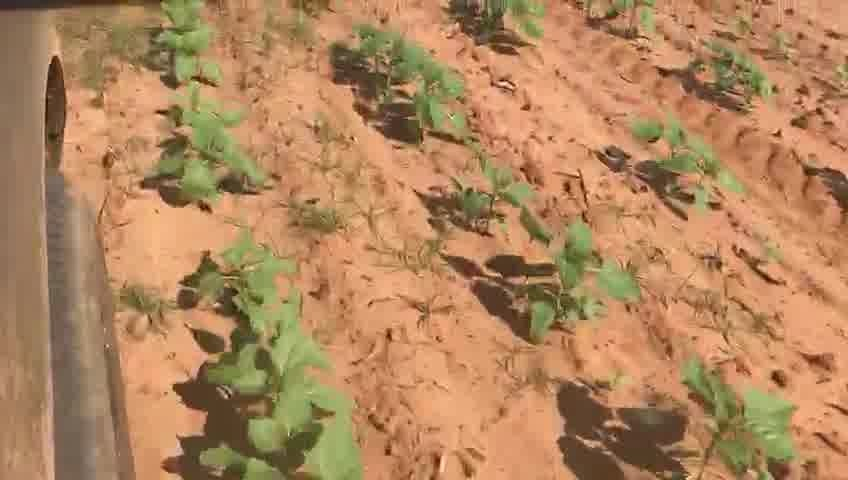sunflower: (667, 357, 796, 478), (194, 385, 357, 478), (525, 223, 638, 342), (144, 102, 263, 210), (194, 300, 323, 389), (204, 236, 293, 314), (408, 63, 472, 156), (463, 151, 527, 242), (152, 20, 225, 93), (669, 150, 742, 208), (348, 14, 404, 83), (382, 36, 433, 108), (634, 108, 692, 163)
